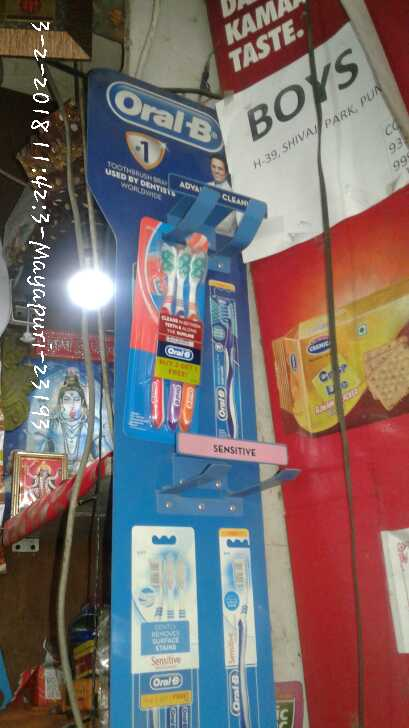oralb: (148, 238, 200, 433)
